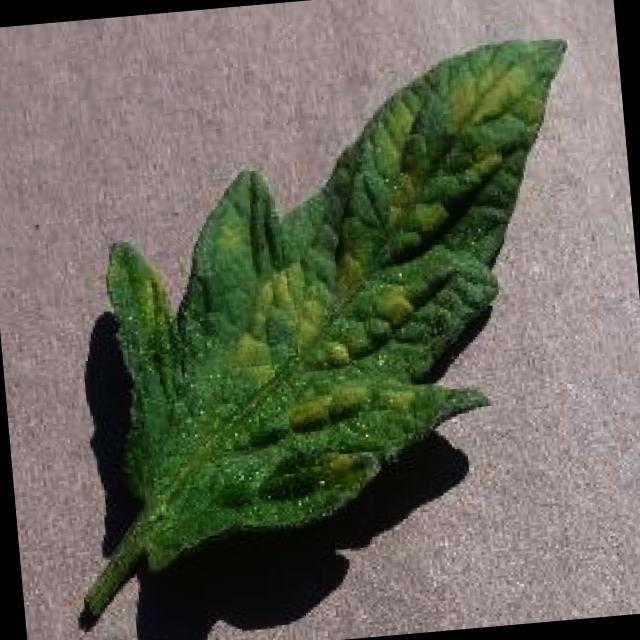Tomato mold leaf: (93, 37, 608, 570)
